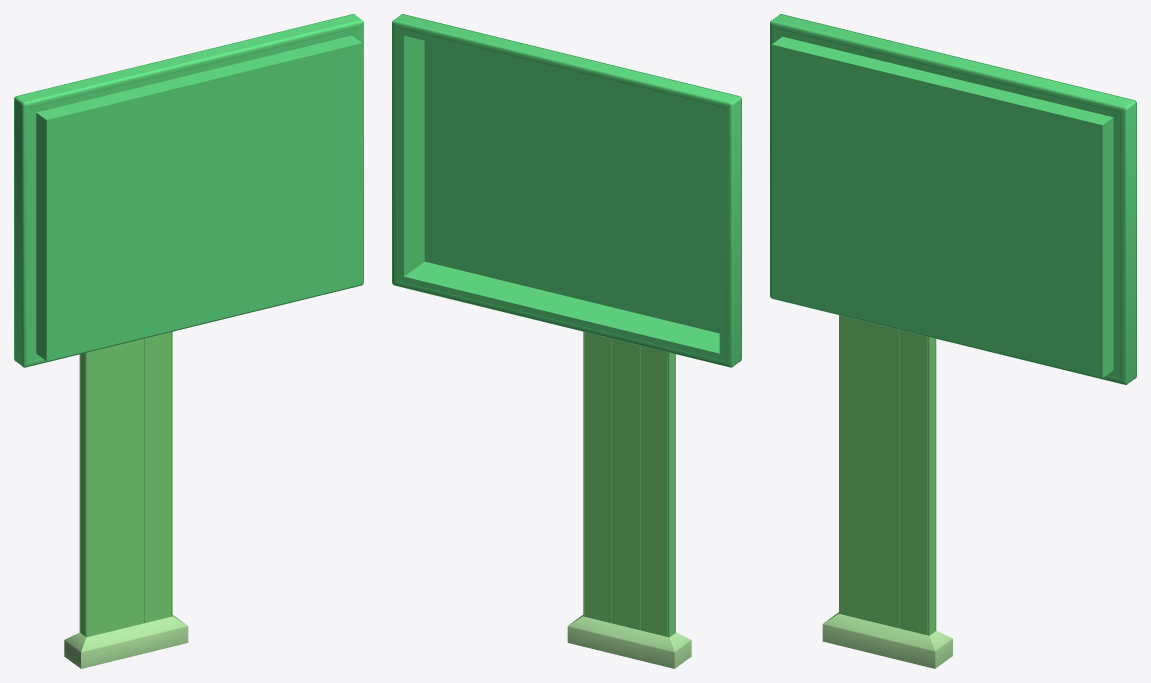
Rendered from bord.glb.
The picture shows the model from 3 angles, left to right: view 1: azimuth 30°, elevation 25°; view 2: azimuth 150°, elevation 25°; view 3: azimuth 330°, elevation 25°; orthographic projection. The views are drawn at different scales.
Parts seen in each view (by area): view 1: board; view 2: board; view 3: board.
Boxes of the visible parts, box(x1,y1,x2,y2) form: board: box(14, 14, 363, 668); board: box(392, 14, 741, 668); board: box(770, 14, 1136, 668).
Size of the model in its own units: 3.18 by 5.13 by 0.3859.
